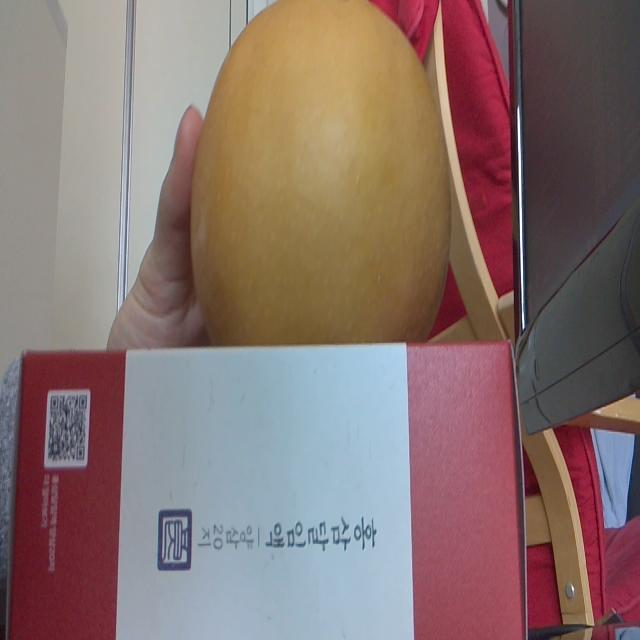pear: (192, 0, 452, 343)
